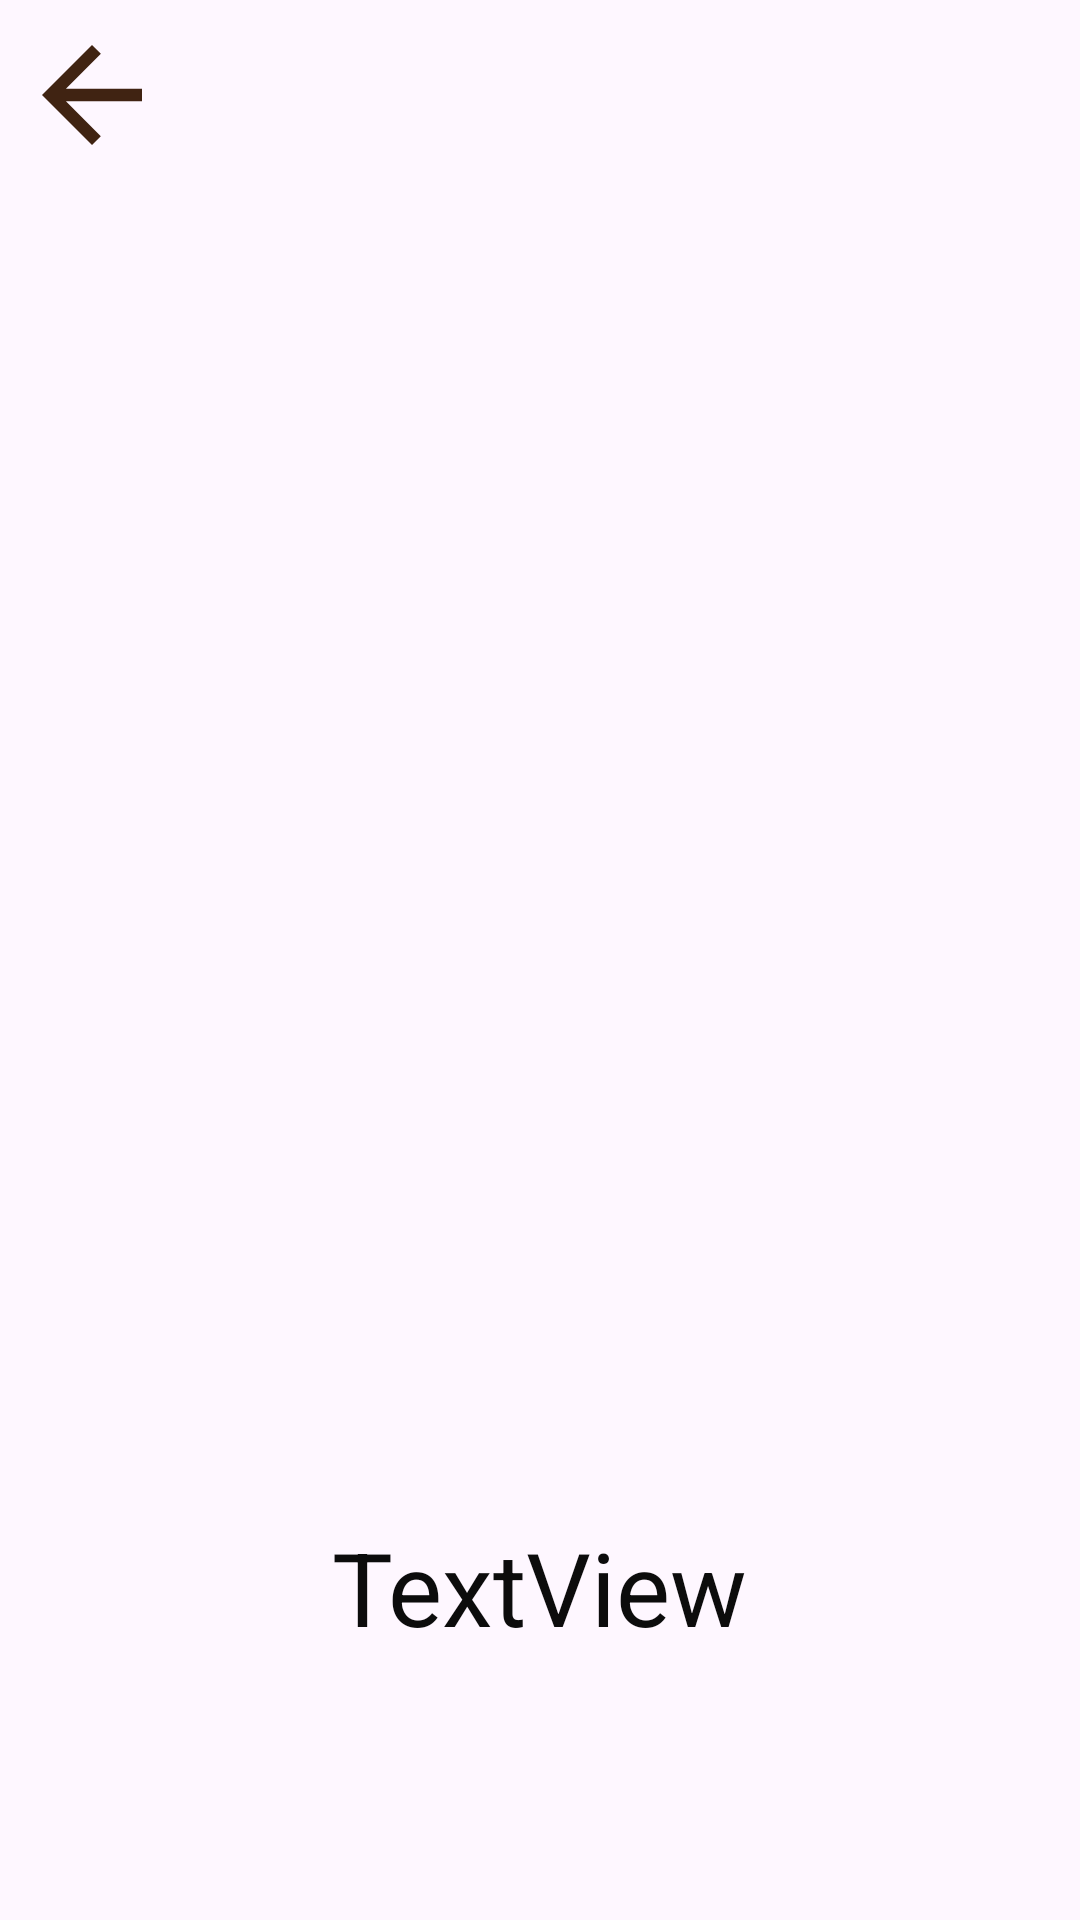

Locate icon controls on the screen. Image size 1080*1920, boxes as bbox(x1, y1, x2, y2).
arrow back: bbox(42, 45, 142, 145)
